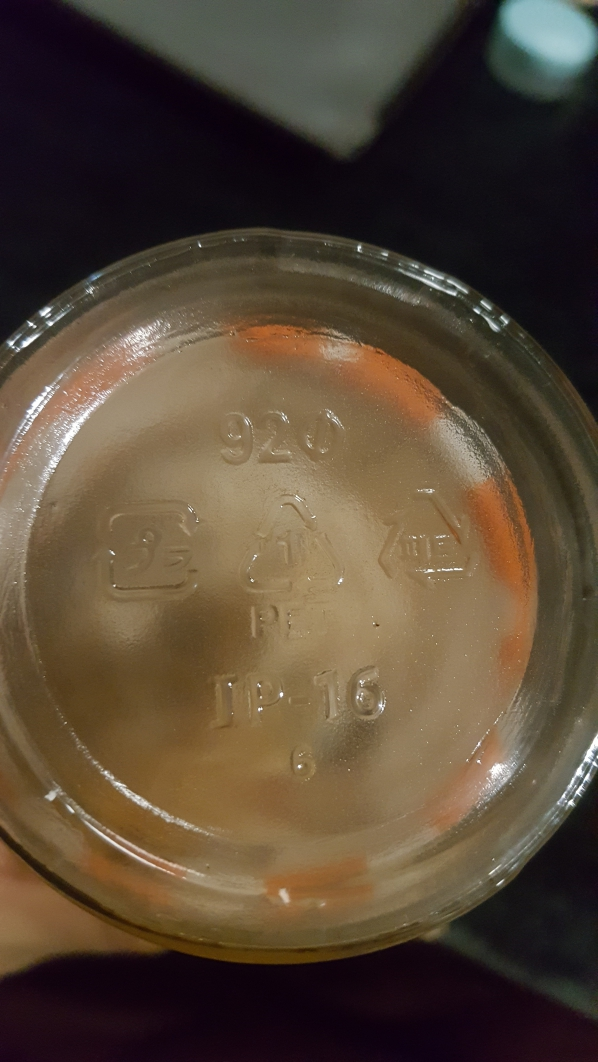recycle: (233, 495, 357, 646)
